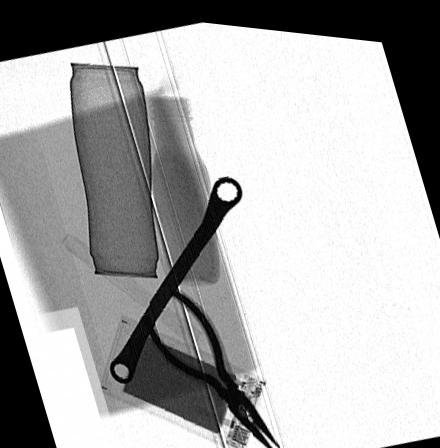Pliers: (146, 280, 280, 446)
Powerbank: (98, 312, 267, 448)
Wrench: (108, 168, 244, 381)
